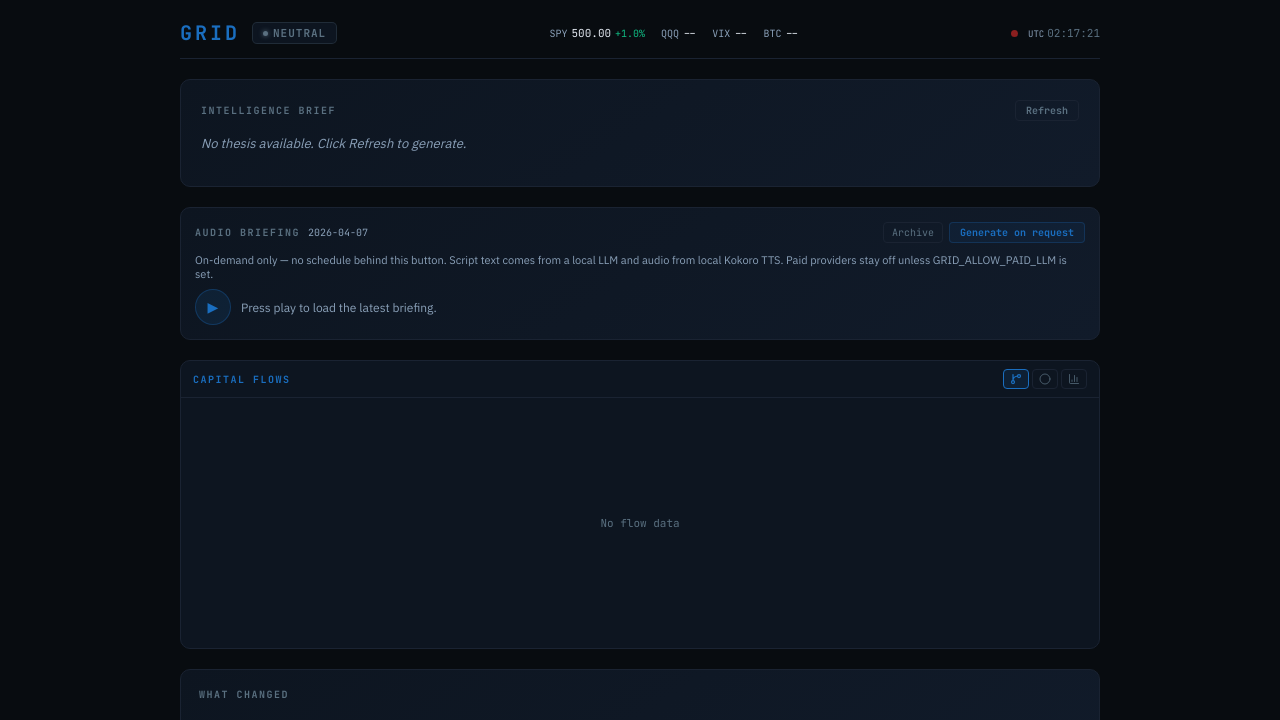
Test: Dashboard watchlist loading › labels an older saved recording as previous when the new briefing has no audio
This screenshot has width=1280, height=720.
expect the button named "Load and play briefing" is shown: met, box [195,289,231,325]
Click the button "Generate on request": (1017, 232) [949,222,1085,243]
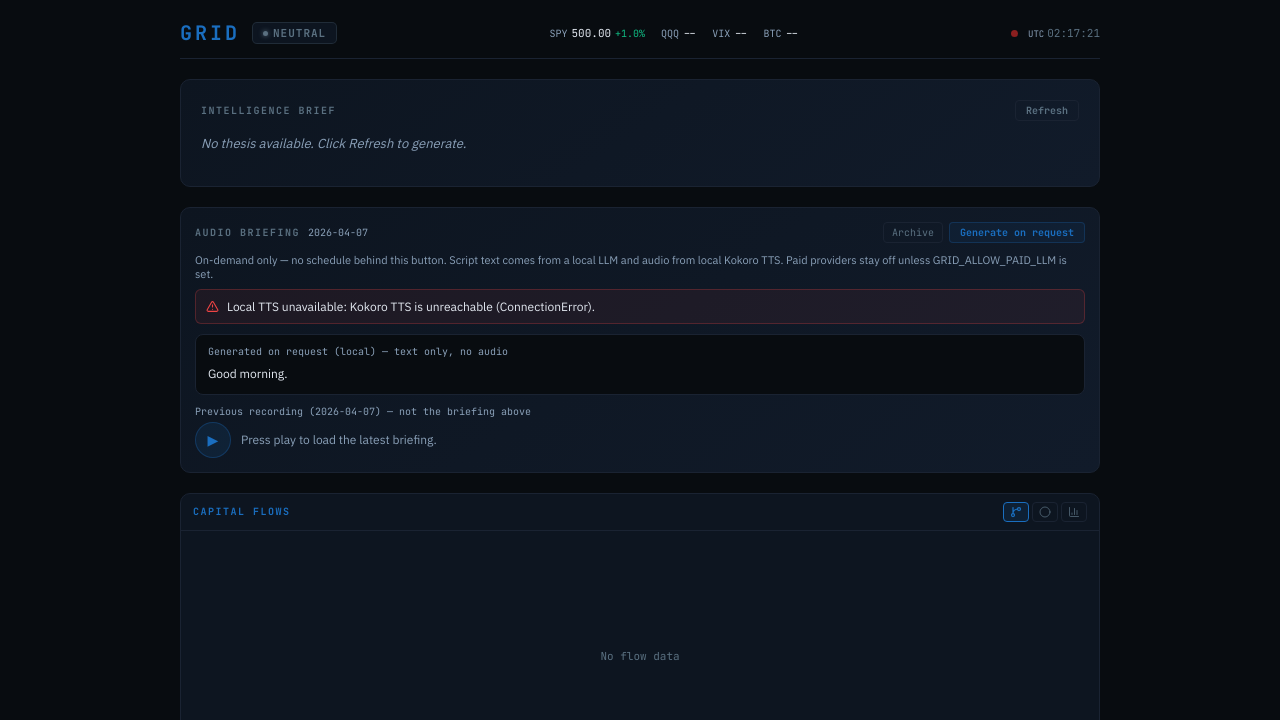
expect the text with test id "previous-recording" shows "Previous recording (2026-04-07)": met, box [195,405,531,418]
